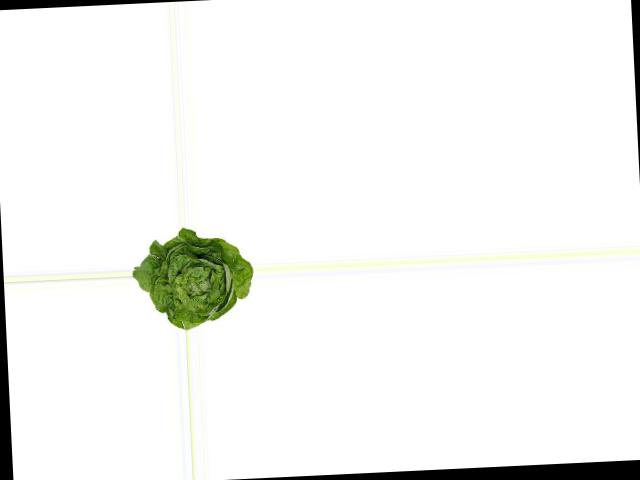lettuce: (134, 224, 256, 331)
